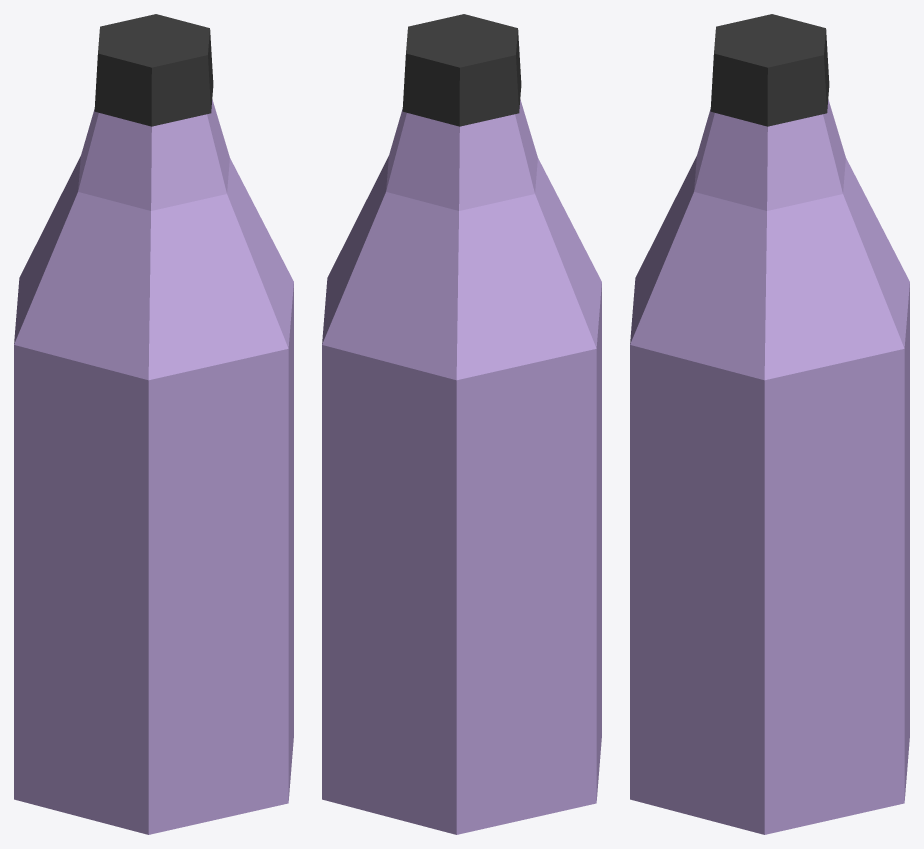
The model's file is Bottle_6.fbx.
The picture shows the model from 3 angles, left to right: view 1: azimuth 30°, elevation 25°; view 2: azimuth 150°, elevation 25°; view 3: azimuth 270°, elevation 25°; orthographic projection.
Visible parts, largest first — view 1: Bottle_6; view 2: Bottle_6; view 3: Bottle_6.
Boxes of the visible parts, x1,y1,x2,y2 form: Bottle_6: (14,14,293,834); Bottle_6: (322,14,601,834); Bottle_6: (630,14,909,834).
Bounding box in the file's own units: 10.33 × 9.12 × 26.13.
